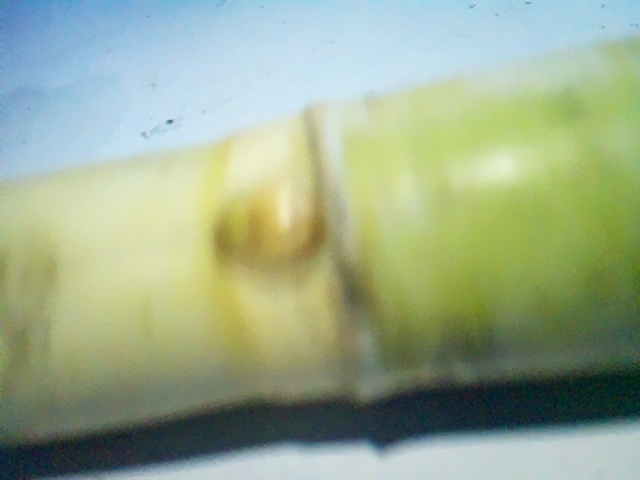Good Sugarcane: (0, 33, 633, 459)
Node: (172, 105, 456, 424)
